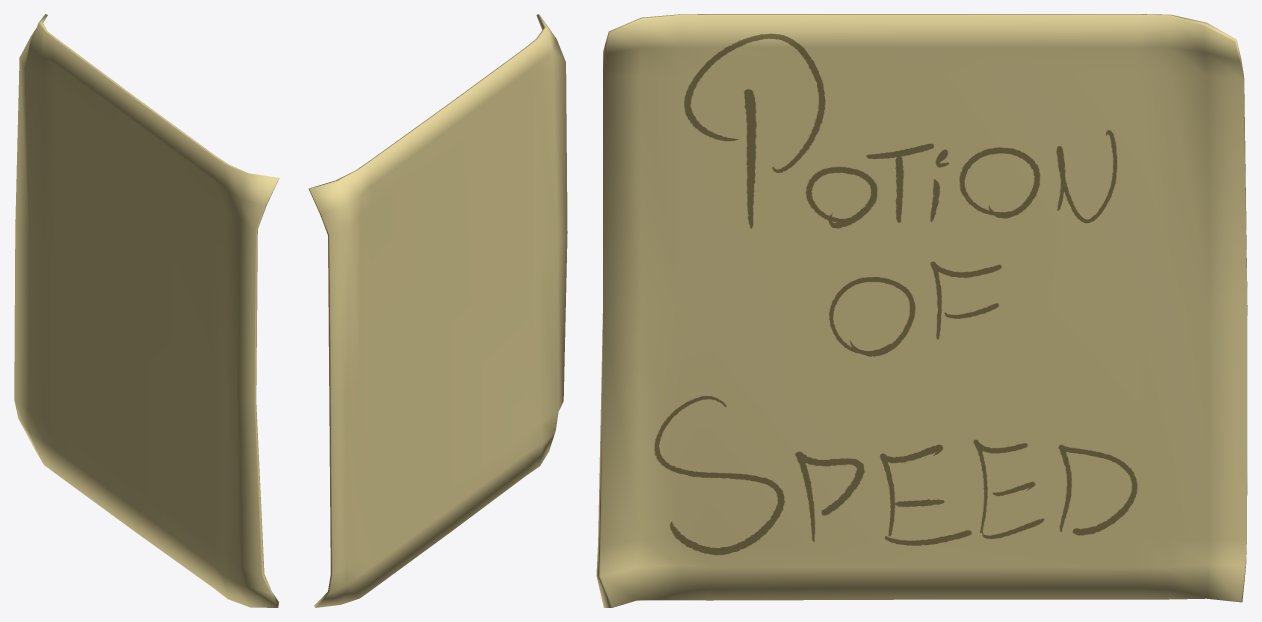
Rendered from papelPotionOfSpeed.fbx.
3 views of the same model, side by side, from view 1: azimuth 30°, elevation 25°; view 2: azimuth 150°, elevation 25°; view 3: azimuth 270°, elevation 25° (orthographic). The views are drawn at different scales.
Parts seen in each view (by area): view 1: Papel; view 2: Papel; view 3: Papel.
Boxes of the visible parts, bbox=[...] form: Papel: bbox=[14, 14, 279, 607]; Papel: bbox=[309, 14, 567, 607]; Papel: bbox=[596, 14, 1247, 607].
Size of the model in its own units: 16.28 by 200 by 202.
